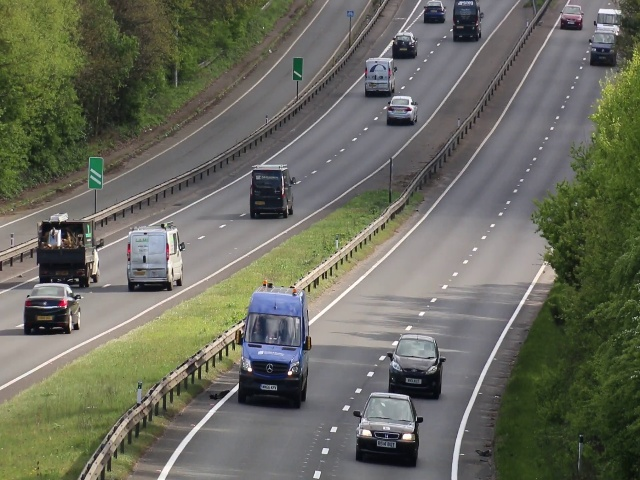car: (241, 292, 312, 409), (354, 392, 420, 464), (35, 213, 100, 284), (126, 224, 183, 290), (389, 335, 444, 396), (23, 285, 82, 335), (250, 163, 294, 219), (451, 1, 485, 43), (365, 55, 395, 93), (385, 91, 416, 127), (590, 34, 616, 69), (559, 2, 584, 33), (390, 32, 419, 56), (424, 1, 446, 25)
